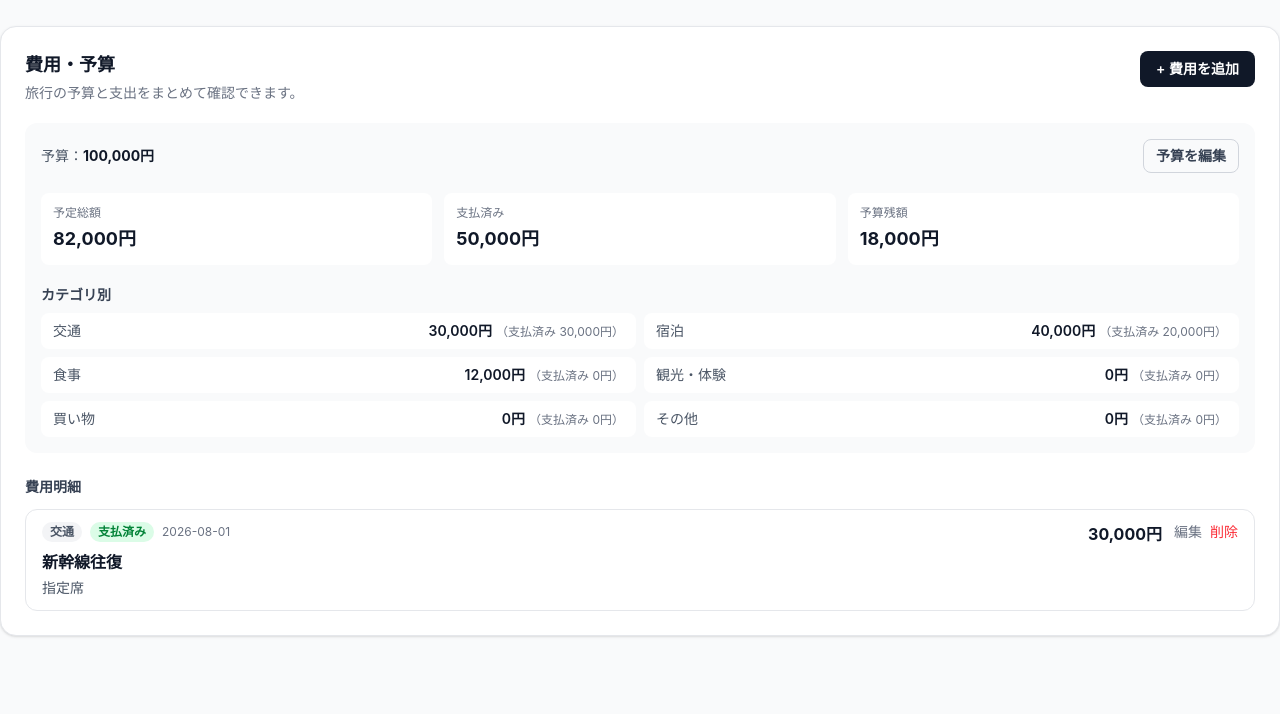
Test case: ExpenseList › 必須項目が未入力の場合は項目別にエラーを表示する
The width and height of the screenshot is (1280, 714).
Expected: the heading "新幹線往復" is shown, [42,552,122,572]
Click the button "+ 費用を追加": (1198, 69) [1140,51,1255,87]
(page scrolled)
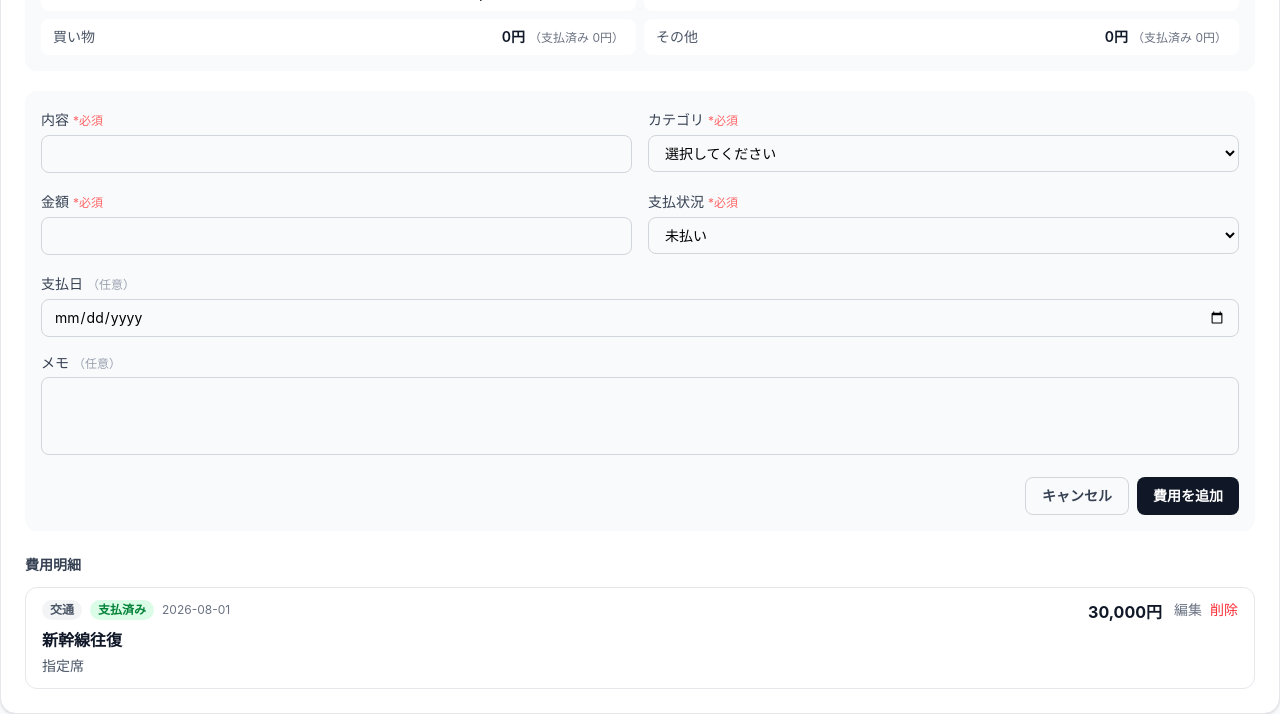
Click the button "費用を追加": (1188, 496) [1137,477,1239,515]
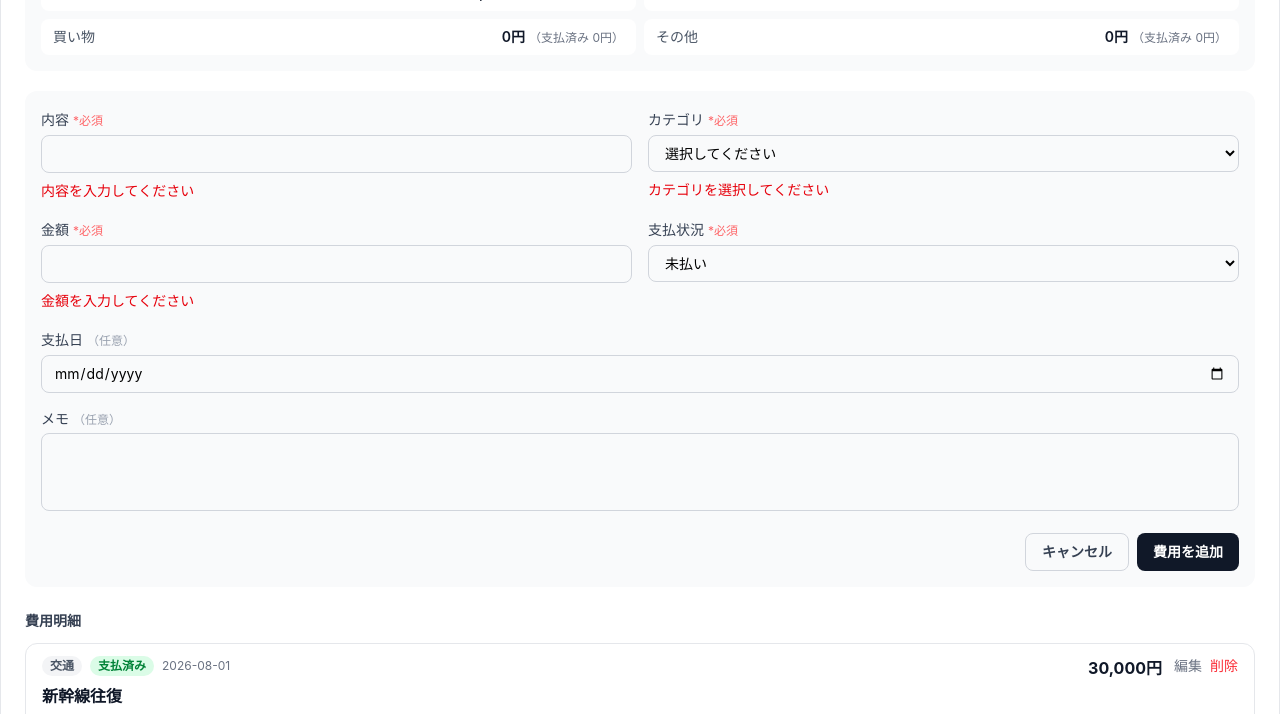
Result: the text "内容を入力してください" is shown at [41,182,194,199]
Result: the text "カテゴリを選択してください" is shown at [648,181,829,198]
Result: the text "金額を入力してください" is shown at [41,292,194,309]
